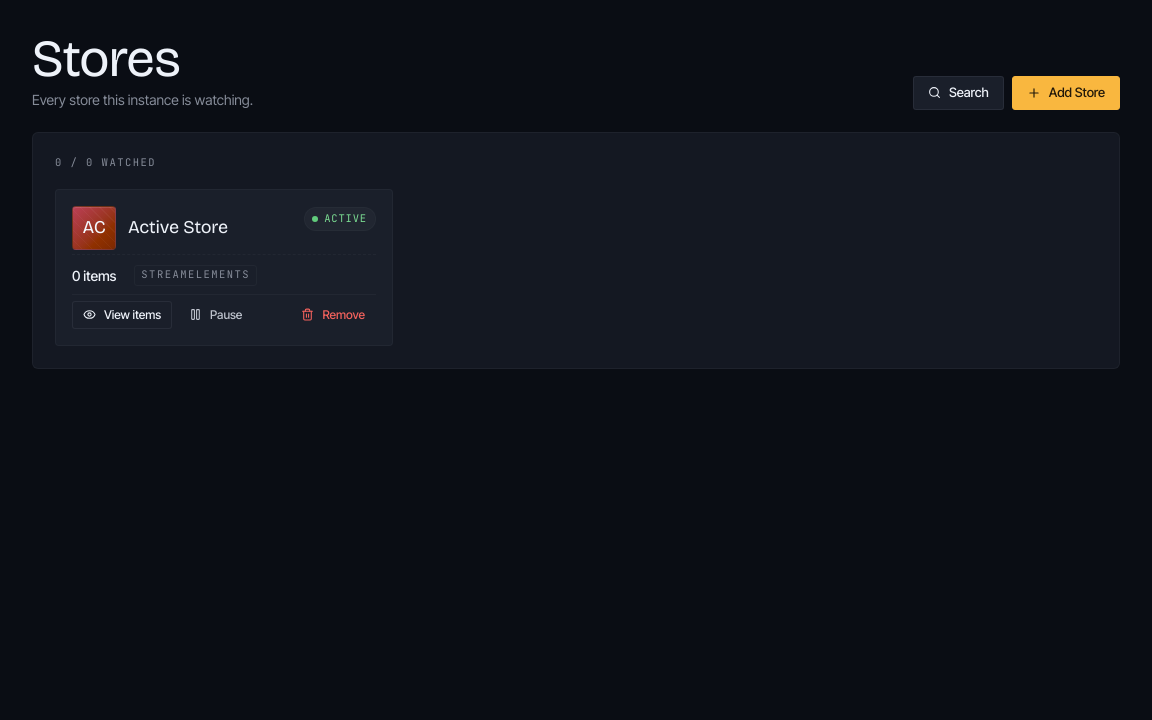
Test case: StoresPage › shows 'Store paused' toast after pausing active store
Step 1. Click the button "Pause" → (216, 315), box [178, 301, 253, 329]
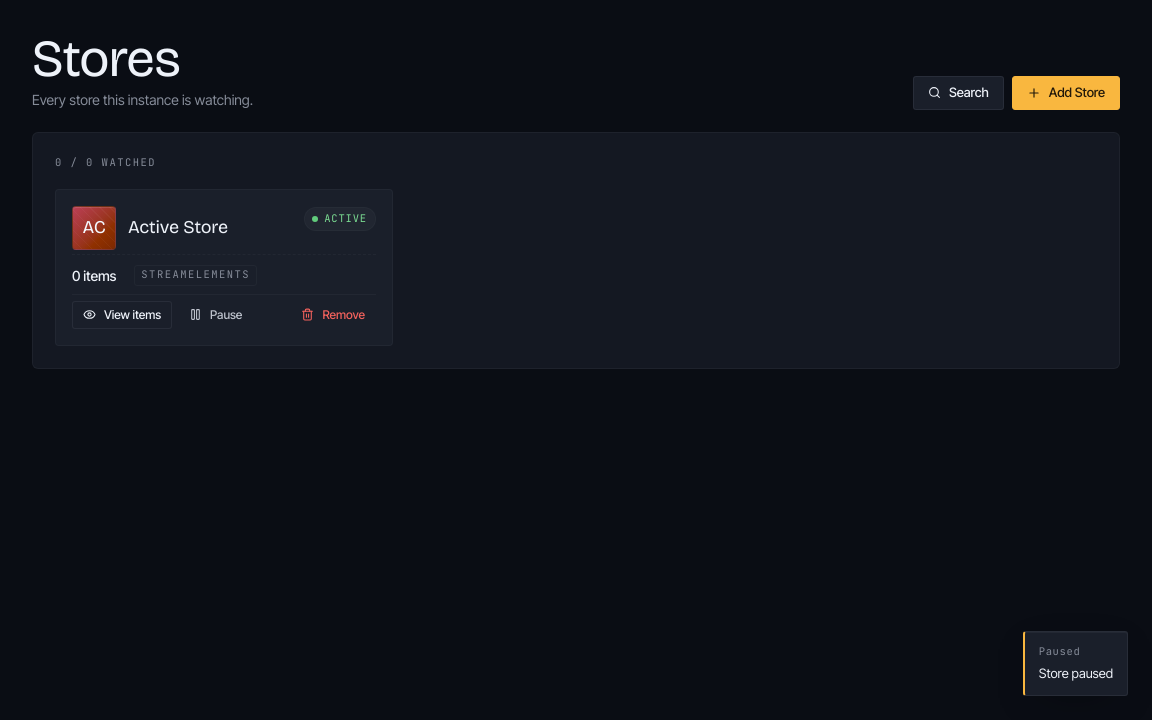
Result: the text "Store paused" is shown at [1039, 664, 1113, 683]
